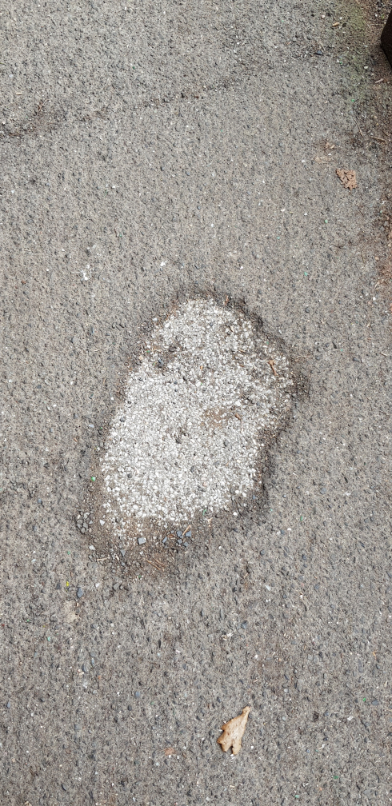pothole: (76, 276, 311, 581)
